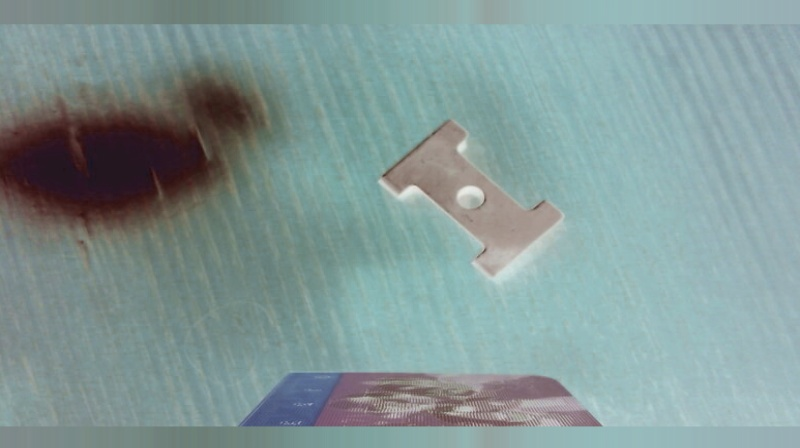O002: (372, 113, 570, 281)
